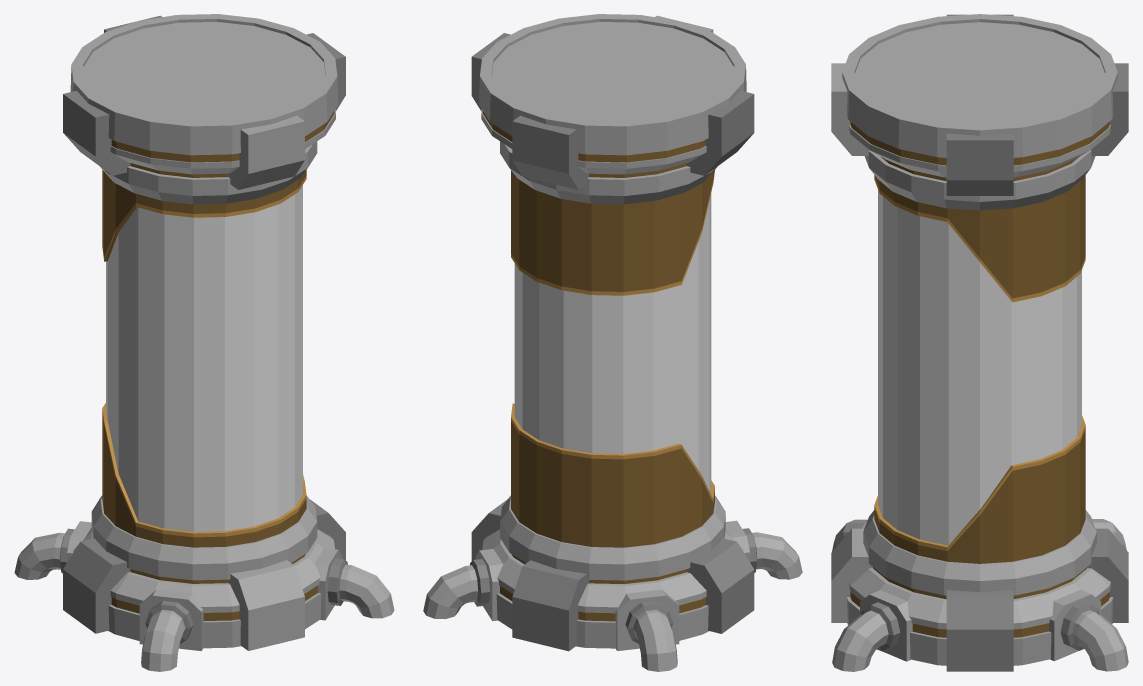
Rendered from Scifi Pod.glb.
The picture shows the model from 3 angles, left to right: view 1: azimuth 30°, elevation 25°; view 2: azimuth 150°, elevation 25°; view 3: azimuth 270°, elevation 25°; orthographic projection. The views are drawn at different scales.
Visible parts, largest first — view 1: Props_Pod; view 2: Props_Pod; view 3: Props_Pod.
Boxes of the visible parts, bbox=[...] form: Props_Pod: bbox=[14, 14, 394, 671]; Props_Pod: bbox=[423, 14, 802, 671]; Props_Pod: bbox=[831, 14, 1128, 671].
Bounding box in the file's own units: 1.81 × 3.61 × 1.81.
